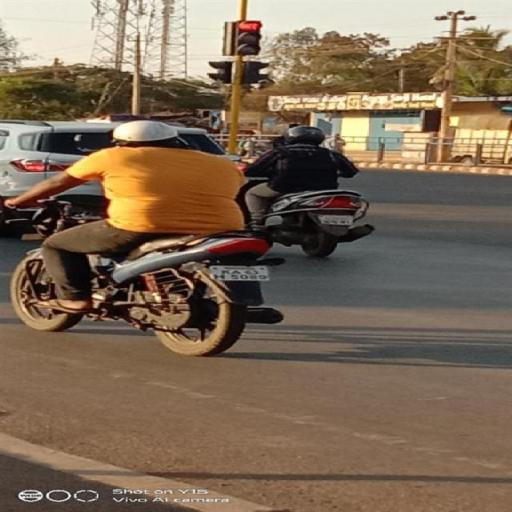using mobile: (104, 140, 142, 148)
